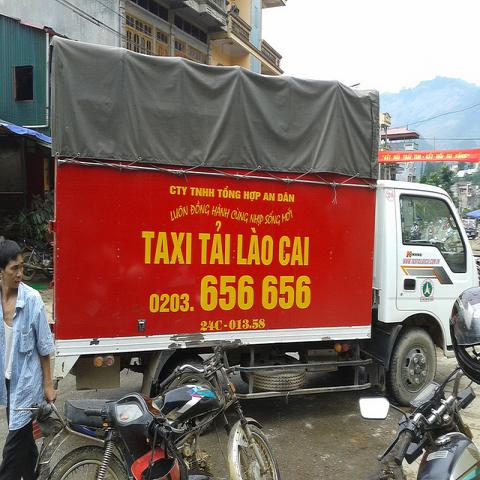motorcycle: (13, 339, 281, 479), (358, 366, 479, 472), (83, 392, 189, 479)
truck: (50, 35, 480, 407)
